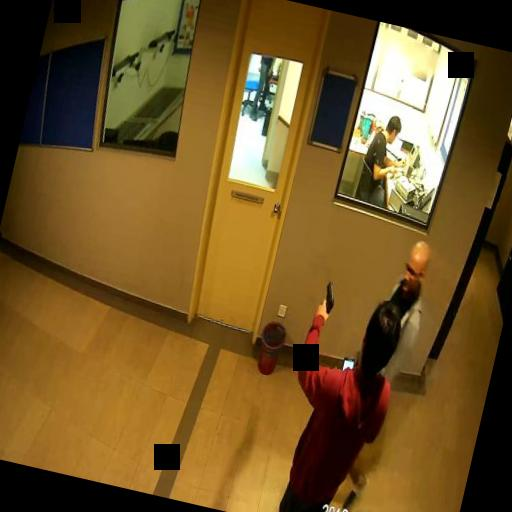Handgun: (317, 277, 338, 315)
